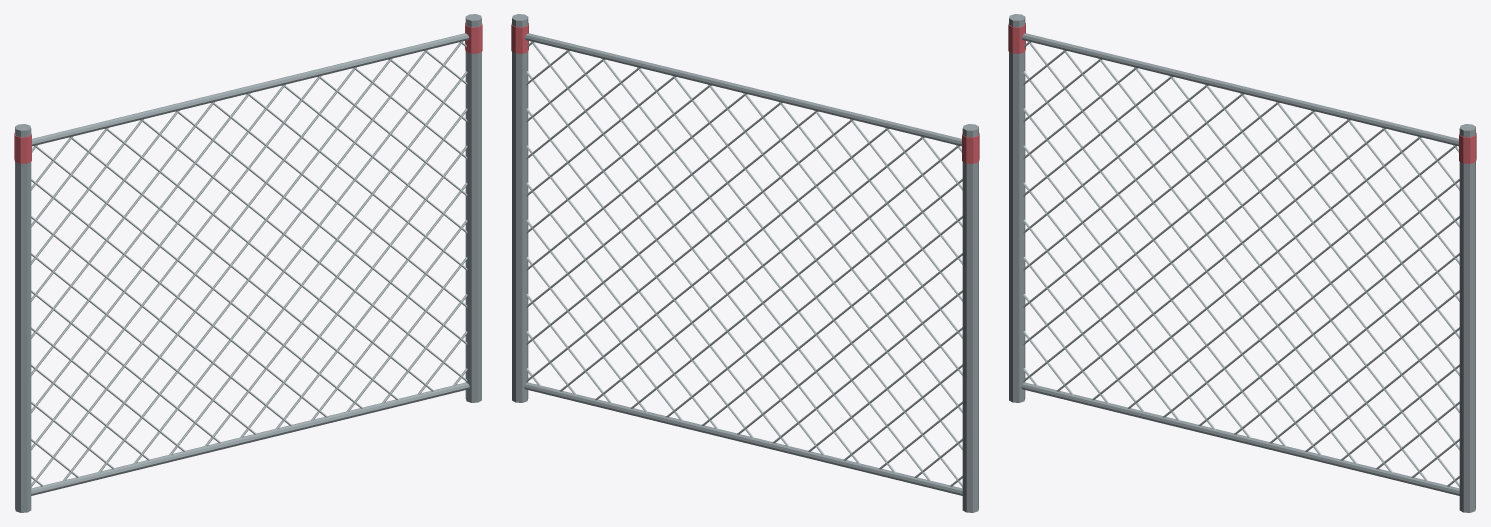
The model's file is cerco_perimetral.glb.
3 views of the same model, side by side, from view 1: azimuth 30°, elevation 25°; view 2: azimuth 150°, elevation 25°; view 3: azimuth 330°, elevation 25° (orthographic).
Parts seen in each view (by area): view 1: world, frame, red_hsec_detail; view 2: world, frame, red_hsec_detail; view 3: world, frame, red_hsec_detail.
Boxes of the visible parts, bbox=[...] form: world: bbox=[31, 41, 467, 487]; frame: bbox=[15, 14, 481, 512]; red_hsec_detail: bbox=[14, 23, 482, 163]; world: bbox=[526, 41, 962, 487]; frame: bbox=[512, 14, 978, 512]; red_hsec_detail: bbox=[511, 23, 979, 163]; world: bbox=[1023, 41, 1459, 487]; frame: bbox=[1009, 14, 1475, 512]; red_hsec_detail: bbox=[1008, 23, 1476, 163].
Size of the model in its own units: 2.24 by 1.75 by 0.076.
